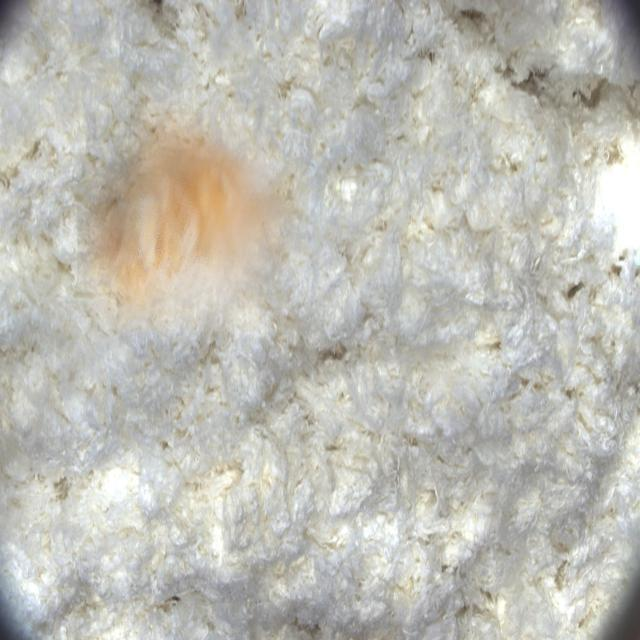dust: (77, 80, 309, 332)
